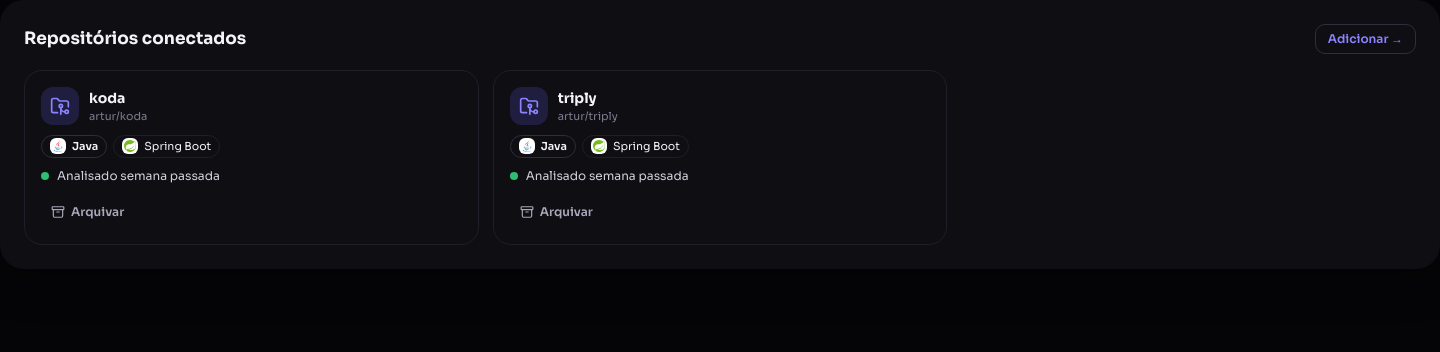
Test case: repositórios conectados › pede confirmação, explica o que acontece e só então arquiva
This screenshot has width=1440, height=352.
Click the button with aria-label "Arquivar koda": (88, 212) [41,196,134,228]
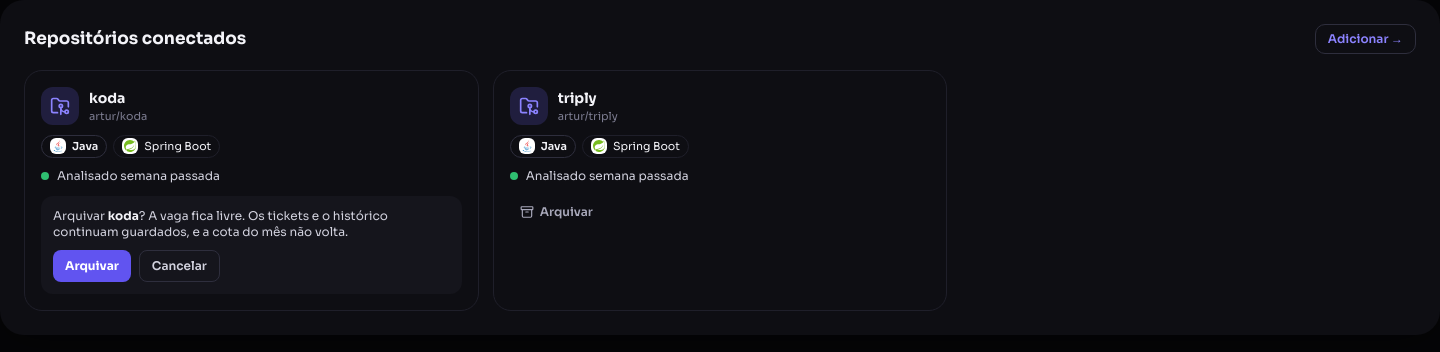
Now the text "a cota do mês não volta" is shown, box [53,208,388,238]
Click the 2nd button "Arquivar": (92, 266) [53,250,131,282]
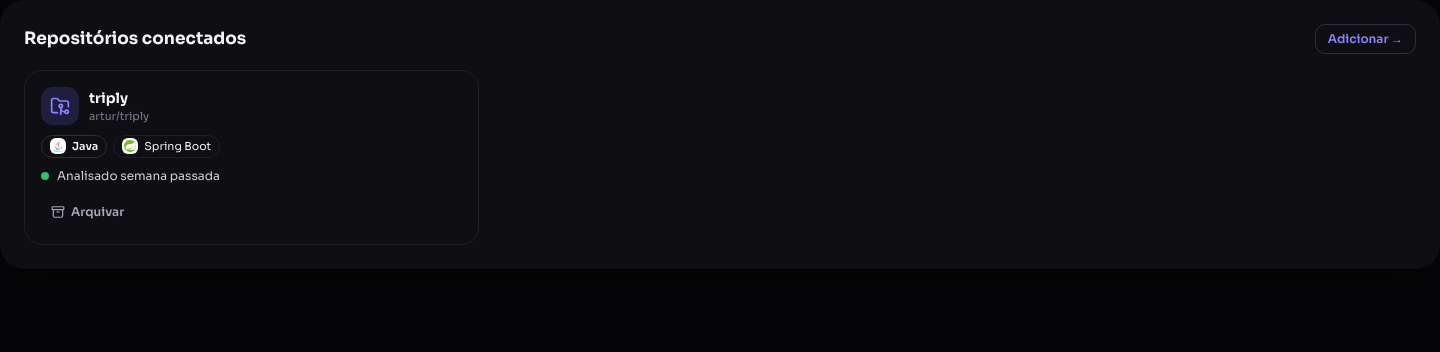
Expected: the text "triply" is shown, [89,89,128,107]
Now the link "koda" is gone
